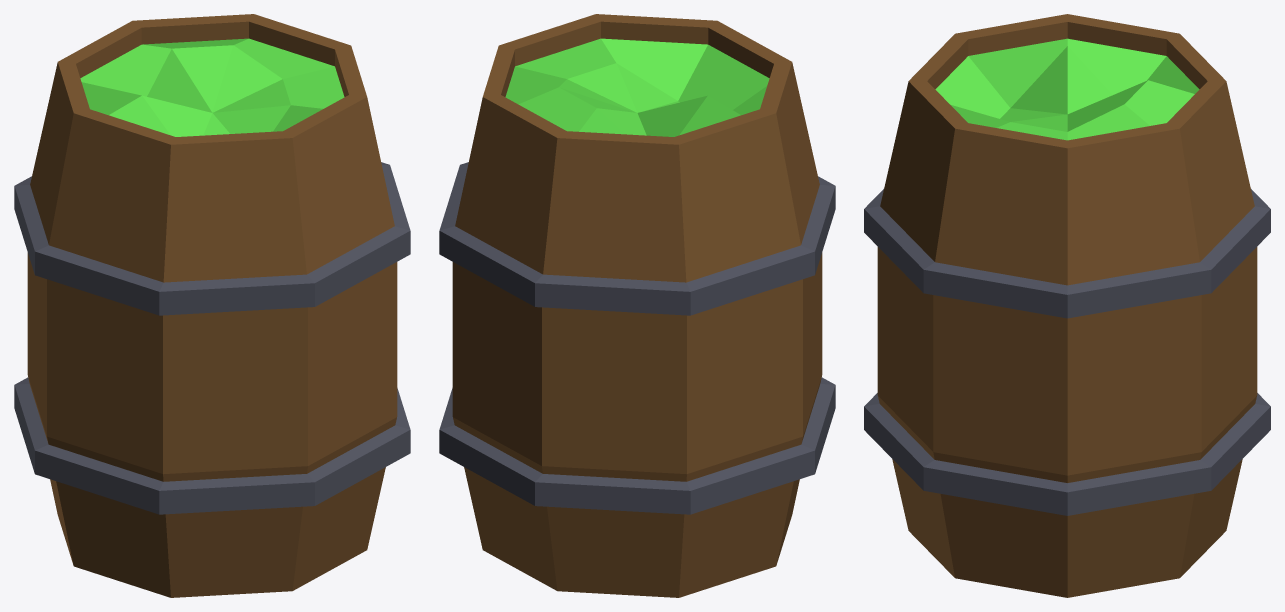
File: spice barrel g.fbx
3 renders of one model, left to right at view 1: azimuth 30°, elevation 25°; view 2: azimuth 150°, elevation 25°; view 3: azimuth 270°, elevation 25°, orthographic.
Parts seen in each view (by area): view 1: Barrel.002; view 2: Barrel.002; view 3: Barrel.002.
Part boxes in pixels (box(x1,y1,x2,y2)): Barrel.002: box(14, 14, 410, 597); Barrel.002: box(439, 14, 835, 597); Barrel.002: box(864, 14, 1270, 597).
Bounding box in the file's own units: 189 × 231 × 189.
